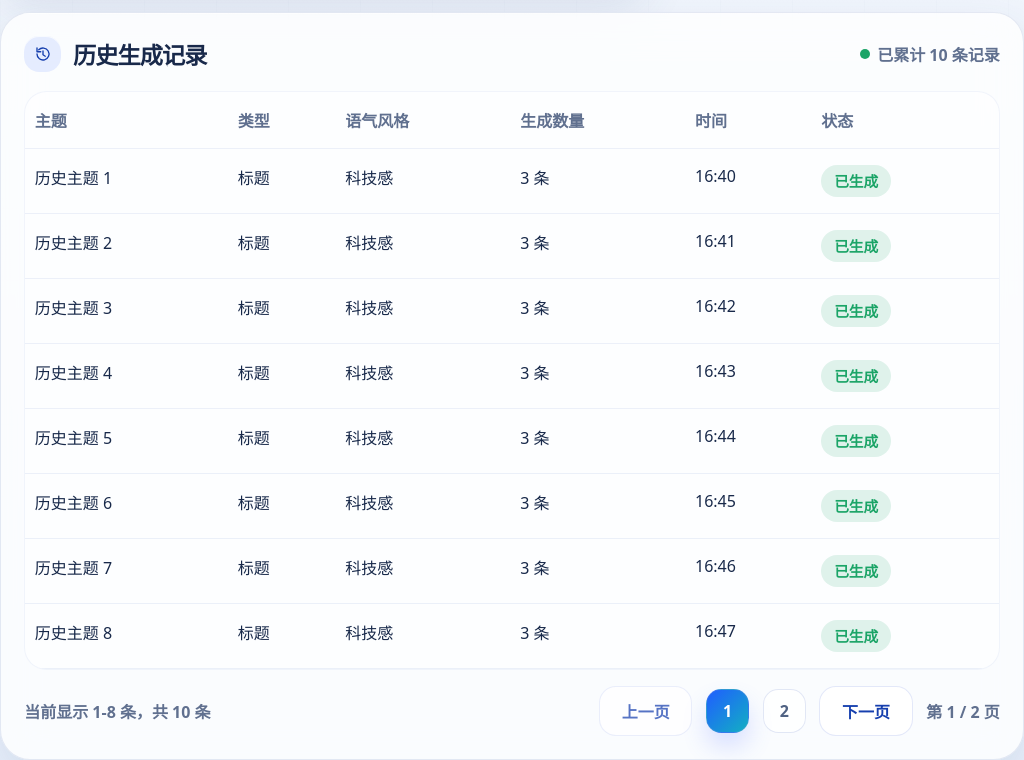
Test: TextGenerationPage › paginates generation history in 8-row chunks
The width and height of the screenshot is (1024, 760).
(page scrolled)
Expected: the text "历史主题 1" is shown, 25,148 -> 228,213
Expected: the text "历史主题 8" is shown, 25,603 -> 228,668
Click the button "2".
click(784, 711)  # box 763,690 -> 806,733
(page scrolled)
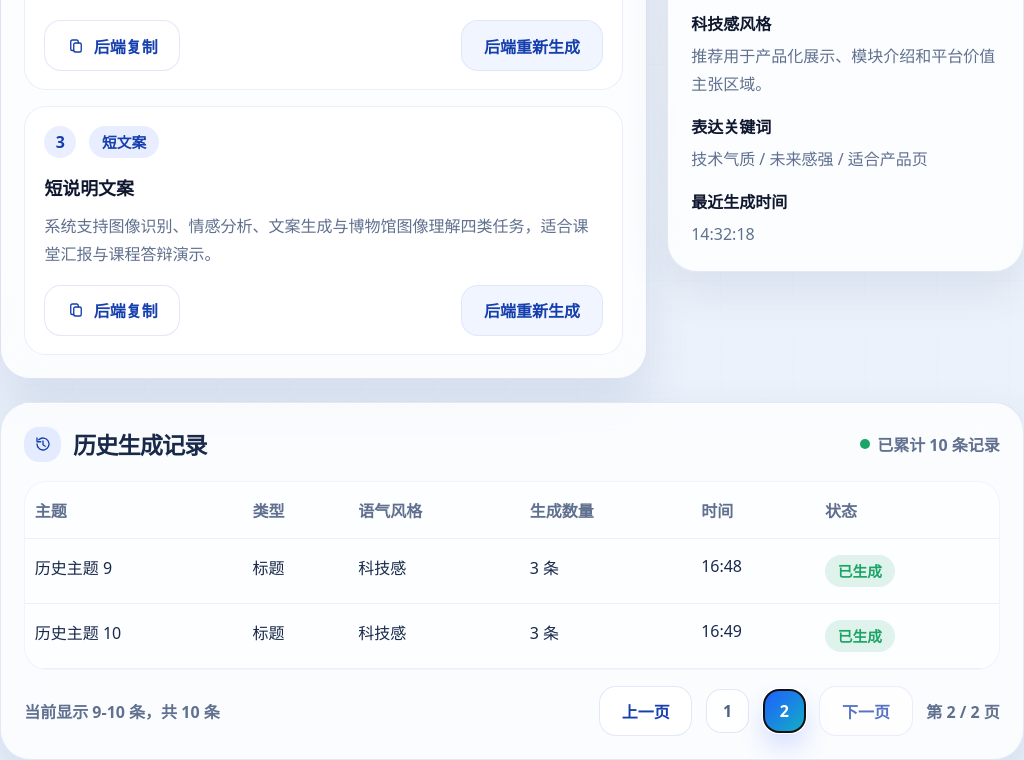
Expected: the text "历史主题 9" is shown, 25,538 -> 243,603
Expected: the text "历史主题 10" is shown, 25,603 -> 243,668
Expected: the text "当前显示 9-10 条，共 10 条" is shown, 24,699 -> 220,723
